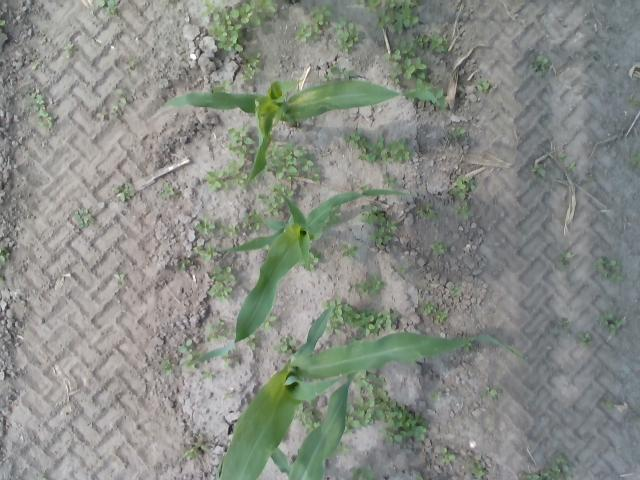Maize: (220, 307, 522, 480), (163, 188, 410, 374), (156, 80, 440, 188), (272, 374, 354, 480)
Weeds: (213, 2, 274, 50), (386, 401, 425, 444), (349, 398, 389, 433), (342, 310, 399, 334), (379, 2, 422, 33), (271, 142, 303, 177), (518, 458, 568, 478), (226, 122, 255, 155), (208, 267, 235, 300), (334, 20, 360, 50), (357, 373, 386, 399), (356, 136, 384, 162), (386, 137, 412, 164), (374, 220, 398, 246), (404, 56, 428, 80), (206, 169, 228, 194), (28, 89, 48, 115), (354, 276, 381, 295), (598, 257, 620, 280), (602, 311, 624, 334), (228, 158, 248, 181), (308, 5, 332, 24), (243, 52, 259, 80), (206, 319, 226, 341), (184, 440, 208, 458), (294, 24, 314, 44), (201, 2, 221, 21), (275, 336, 297, 353), (246, 206, 262, 229), (298, 407, 315, 428), (193, 219, 216, 234), (74, 208, 91, 228), (360, 205, 378, 223), (328, 318, 346, 336), (195, 244, 218, 258), (178, 344, 198, 360), (116, 186, 136, 202), (332, 67, 358, 79), (437, 448, 456, 464), (275, 186, 294, 202), (430, 36, 446, 54), (470, 461, 486, 479), (354, 464, 372, 480), (118, 90, 134, 107), (332, 298, 349, 314), (345, 129, 360, 147), (398, 41, 416, 55), (454, 178, 466, 199), (198, 368, 218, 380), (264, 202, 280, 217), (162, 183, 178, 197), (223, 224, 239, 238), (343, 244, 359, 258), (98, 2, 120, 12), (433, 310, 448, 324), (422, 205, 436, 220), (362, 0, 382, 10), (38, 117, 56, 128), (414, 33, 428, 47), (386, 50, 400, 64), (388, 64, 402, 78), (532, 164, 546, 178), (462, 203, 474, 219), (383, 172, 397, 185), (66, 41, 76, 59), (534, 58, 550, 69), (450, 126, 466, 137), (477, 80, 491, 92), (215, 80, 229, 92), (302, 158, 314, 172), (464, 177, 476, 190), (178, 258, 192, 269), (430, 244, 447, 253), (312, 252, 320, 270), (559, 252, 571, 264), (246, 334, 256, 348), (164, 361, 173, 376), (417, 79, 432, 88), (486, 387, 498, 398), (0, 251, 11, 263), (225, 356, 238, 366), (566, 160, 576, 172), (630, 154, 640, 166), (266, 316, 276, 328), (451, 286, 462, 296), (114, 272, 125, 282), (398, 264, 408, 274), (128, 59, 138, 68), (628, 98, 638, 107), (585, 168, 595, 176), (426, 304, 434, 314), (431, 391, 442, 398), (581, 334, 590, 341), (224, 391, 234, 396), (112, 106, 118, 114)
